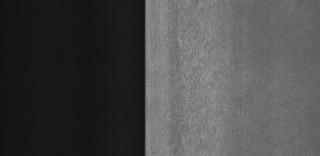silk spot: (169, 12, 227, 150)
